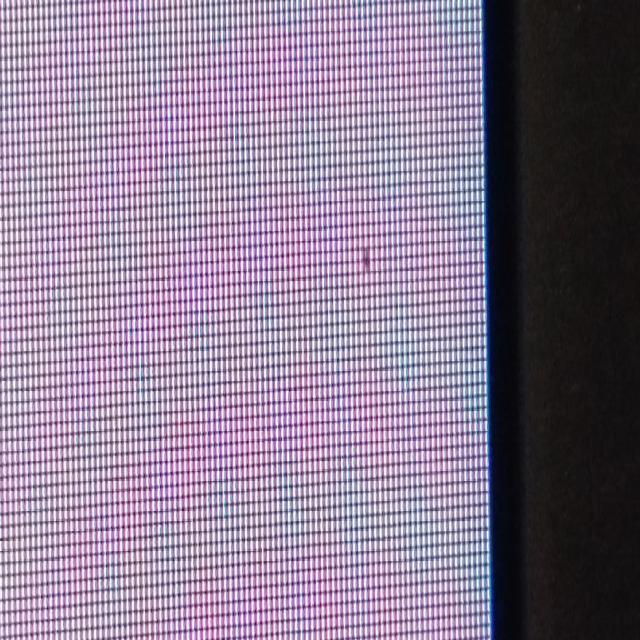Dead pixel: (364, 249, 370, 272)
